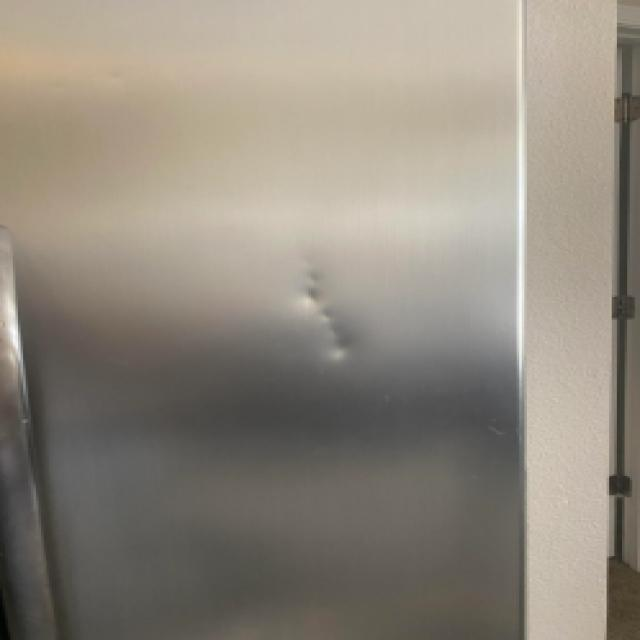dents: (258, 261, 385, 386)
